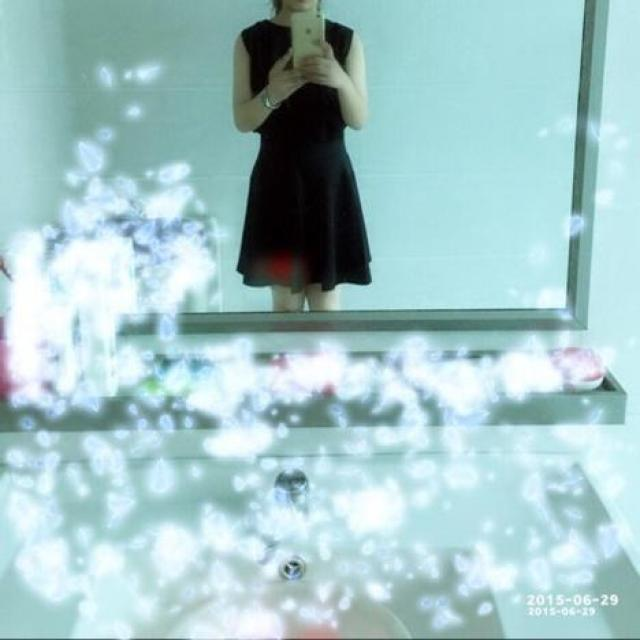vest dress: (241, 18, 372, 292)
